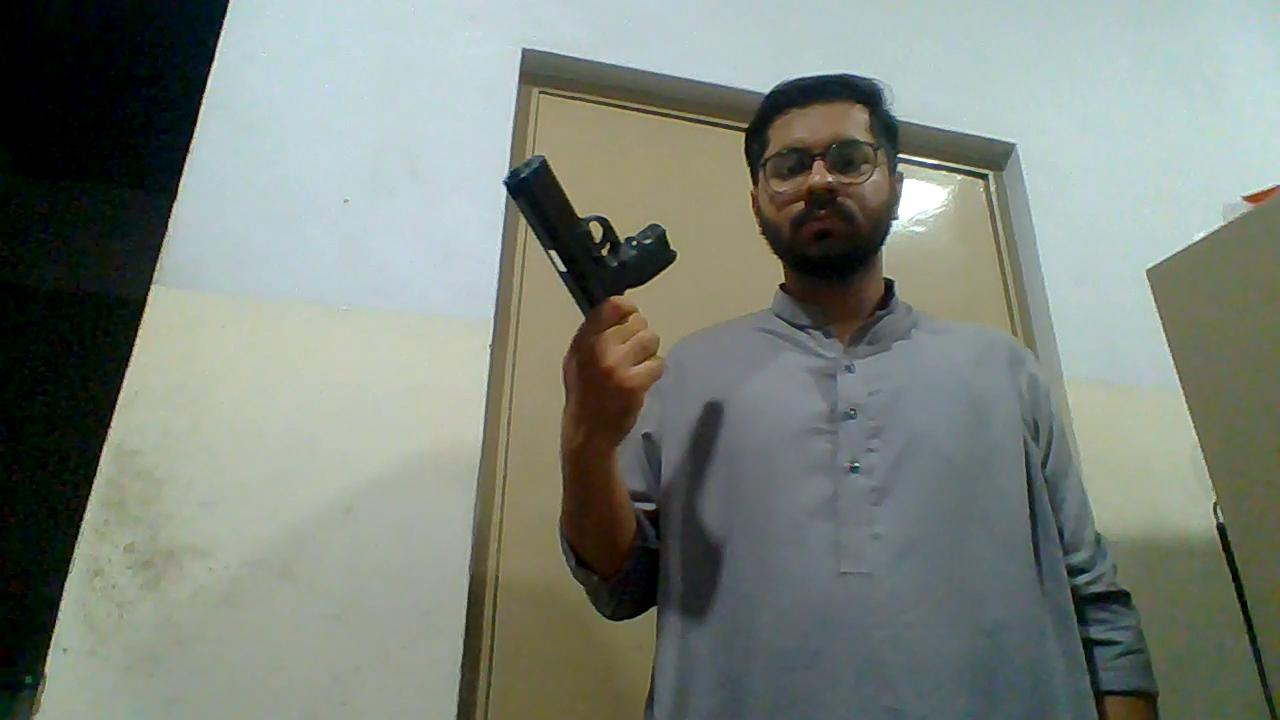criminal: (503, 73, 1160, 720)
weapon: (503, 154, 679, 319)
